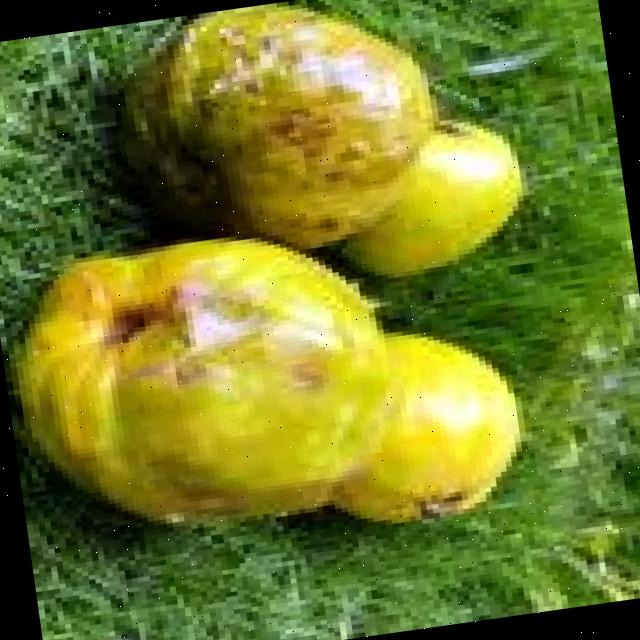Bad_Guava 0 day: (7, 2, 434, 526)
Good_Guava 5-7 days: (322, 329, 516, 526), (318, 121, 523, 288)
